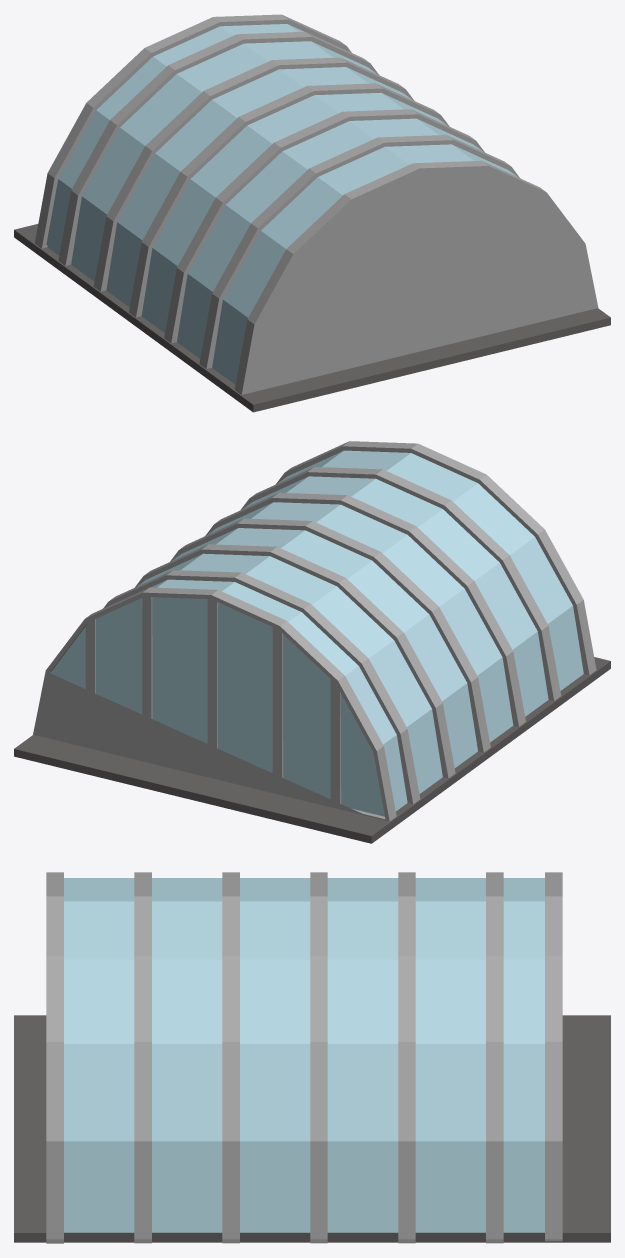
Rendered from sera.fbx.
The picture shows the model from 3 angles, top to bottom: view 1: azimuth 30°, elevation 25°; view 2: azimuth 150°, elevation 25°; view 3: azimuth 270°, elevation 25°; orthographic projection. The views are drawn at different scales.
Parts seen in each view (by area): view 1: Cylinder.001, Cylinder, Cube; view 2: Cylinder, Cylinder.001, Cube; view 3: Cylinder, Cylinder.001, Cube.
Part boxes in pixels (left/top/right/bottom): Cylinder.001: left=34, top=14, right=598, bottom=394; Cylinder: left=46, top=24, right=517, bottom=384; Cube: left=14, top=224, right=610, bottom=412; Cylinder: left=51, top=450, right=583, bottom=816; Cylinder.001: left=33, top=441, right=596, bottom=821; Cube: left=14, top=657, right=610, bottom=843; Cylinder: left=64, top=878, right=544, bottom=1232; Cylinder.001: left=46, top=872, right=562, bottom=1243; Cube: left=14, top=1015, right=610, bottom=1242.
Bounding box in the file's own units: 429 × 218 × 496.
